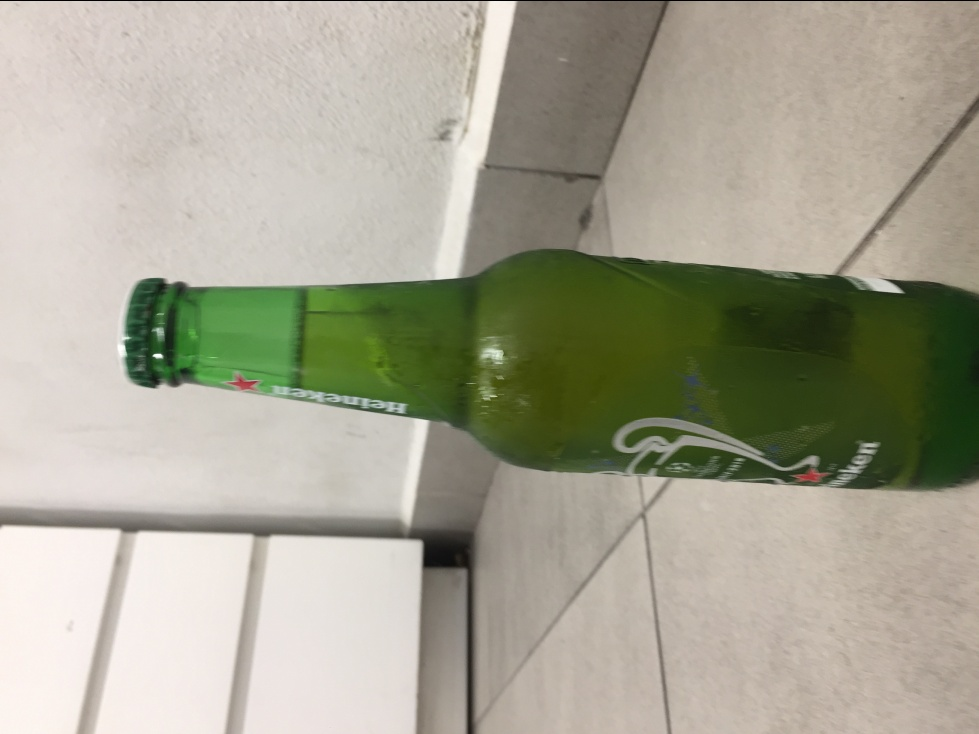heineken: (119, 245, 979, 494)
